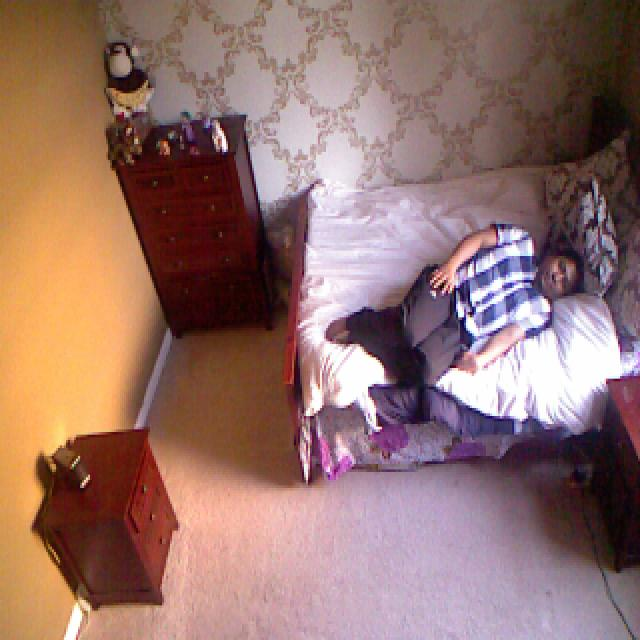lying: (322, 225, 576, 386)
